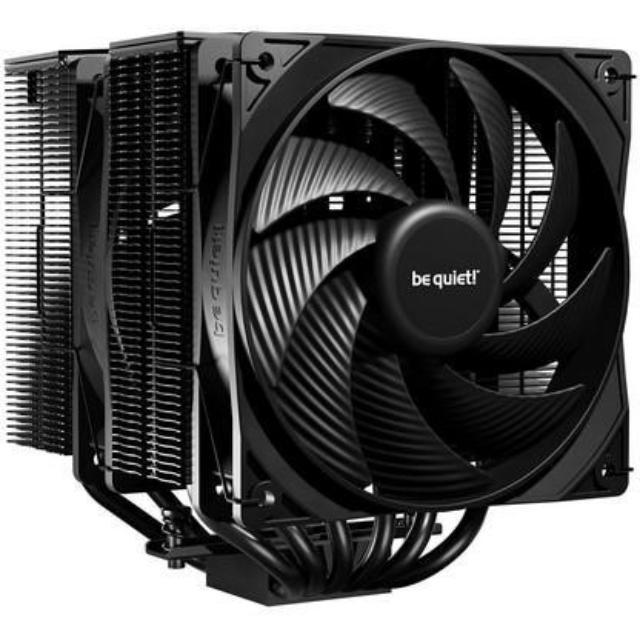CPU_Fan: (4, 37, 636, 609)
